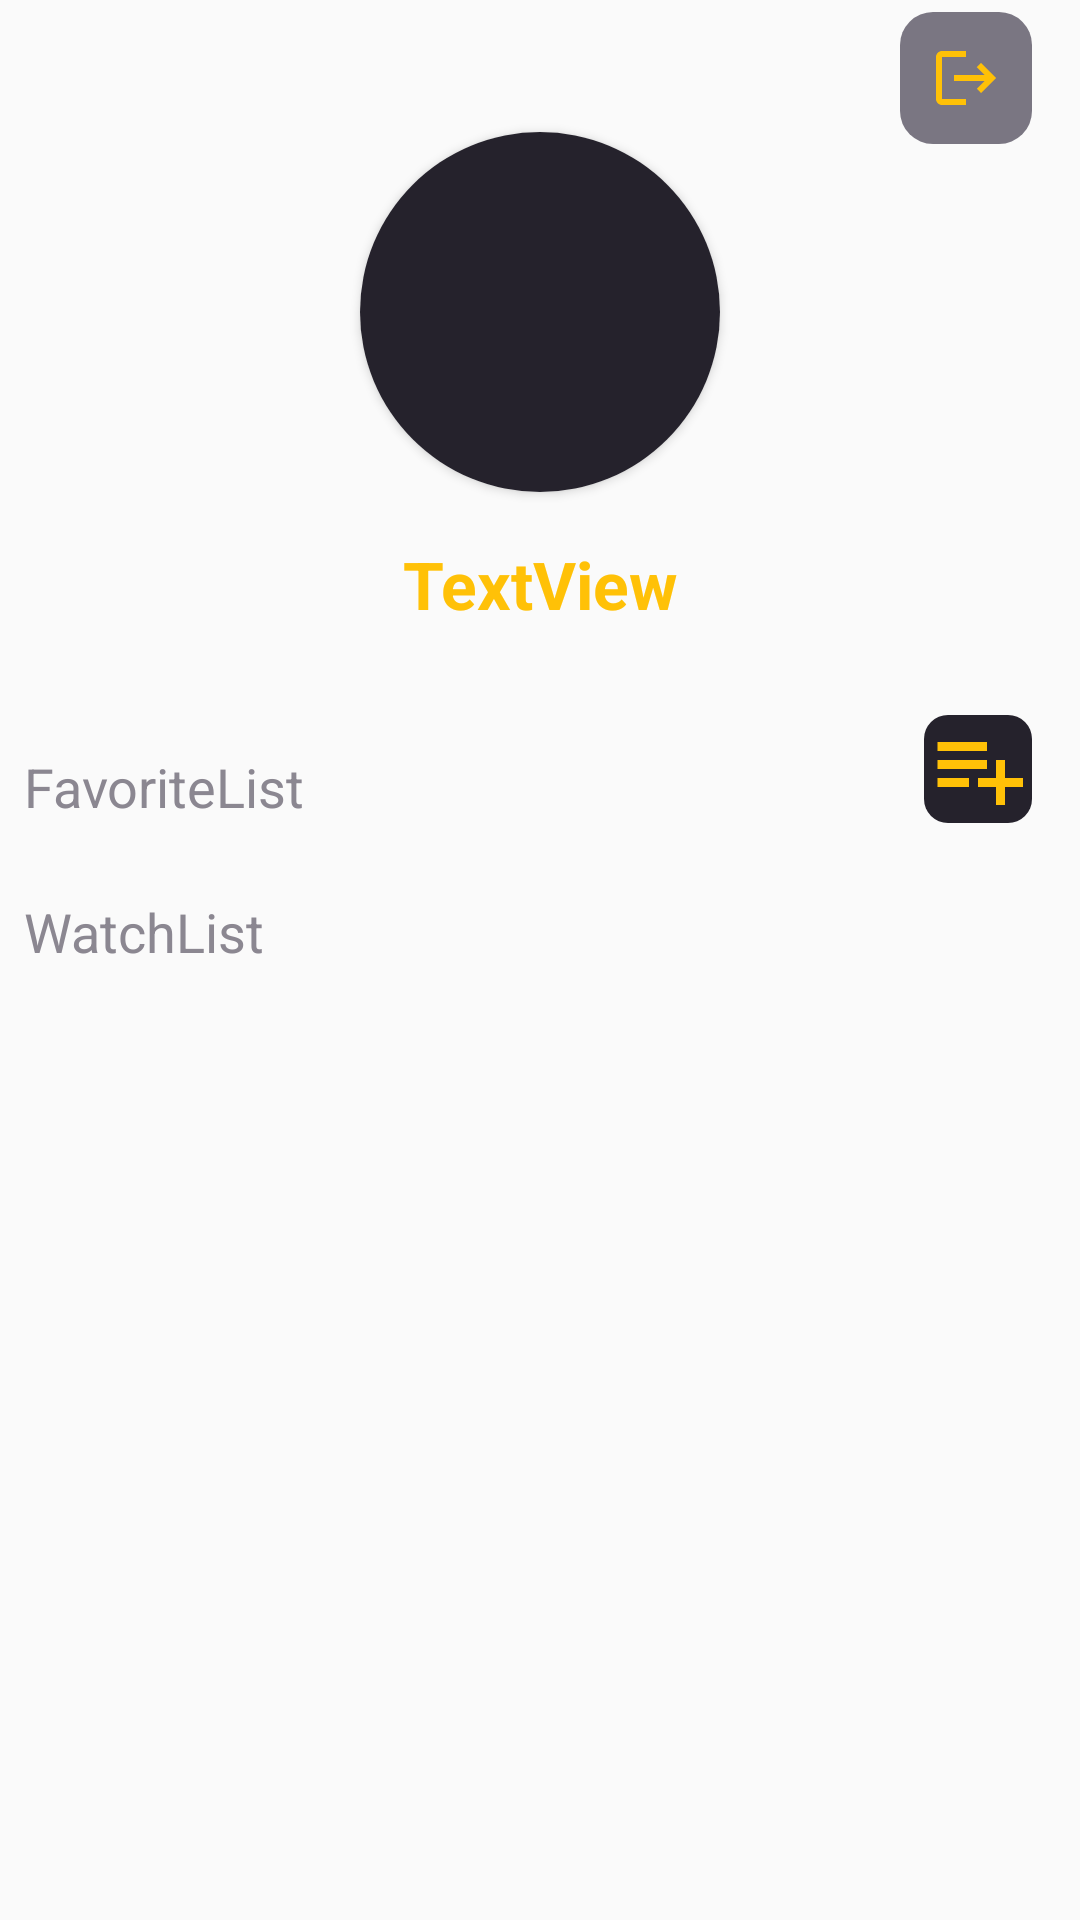

Icons on this 1080×1920 Android screen, each with the point to tap as (x=x, y=y):
playlist add: (x=978, y=769)
